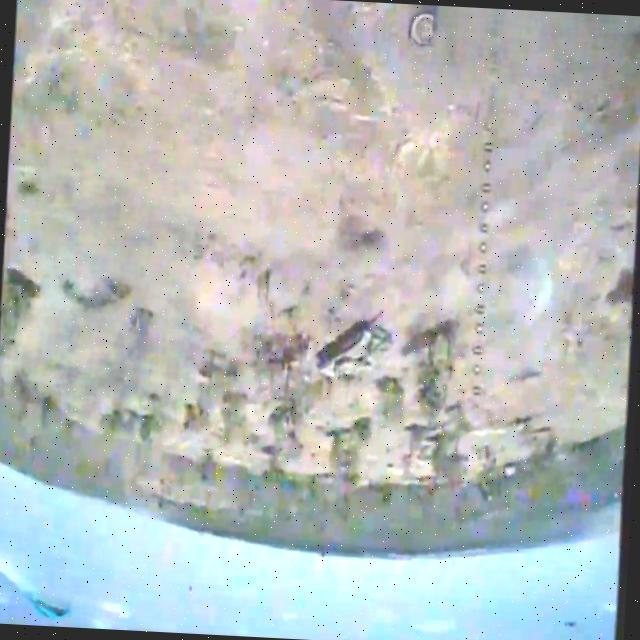MBT: (316, 312, 400, 386)
